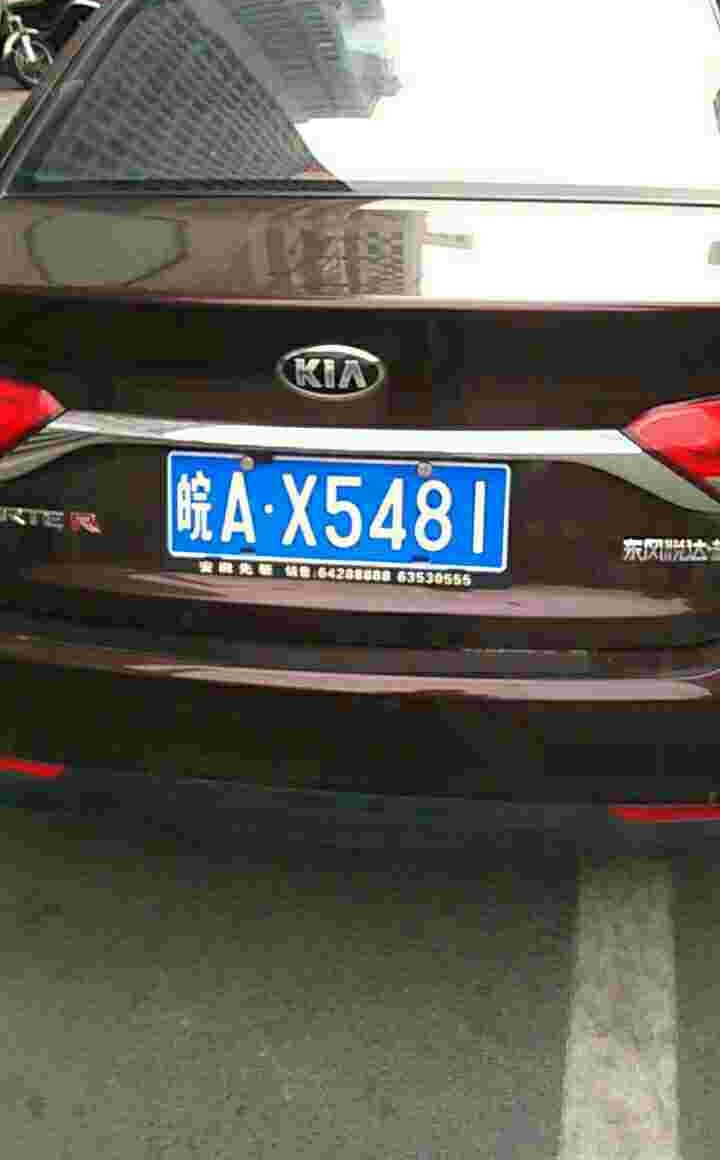license_plate: (174, 451, 511, 570)
